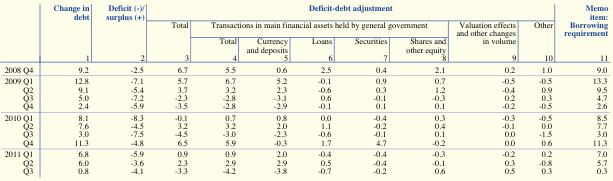table: (3, 4, 607, 174)
table column: (450, 4, 524, 174), (97, 4, 157, 174), (240, 4, 299, 174), (42, 4, 97, 174), (342, 4, 396, 174), (396, 4, 450, 174), (557, 4, 607, 174), (299, 4, 342, 174), (157, 4, 199, 174), (199, 4, 240, 174), (524, 4, 557, 174), (21, 4, 42, 174), (3, 4, 21, 174)
table column header: (3, 4, 607, 63)
table row: (3, 33, 607, 63), (3, 16, 607, 33), (3, 4, 607, 16), (3, 63, 607, 75), (3, 75, 607, 85), (3, 101, 607, 111), (3, 111, 607, 121), (3, 138, 607, 148), (3, 148, 607, 158), (3, 121, 607, 130), (3, 85, 607, 93), (3, 93, 607, 101), (3, 130, 607, 138), (3, 158, 607, 166), (3, 166, 607, 174)
table spanning cell: (157, 4, 557, 16), (199, 16, 450, 33), (97, 4, 157, 63), (450, 16, 524, 63), (42, 4, 97, 63), (557, 4, 607, 63), (157, 16, 199, 63), (524, 16, 557, 63), (3, 111, 21, 148), (3, 75, 21, 111), (3, 148, 21, 174)
